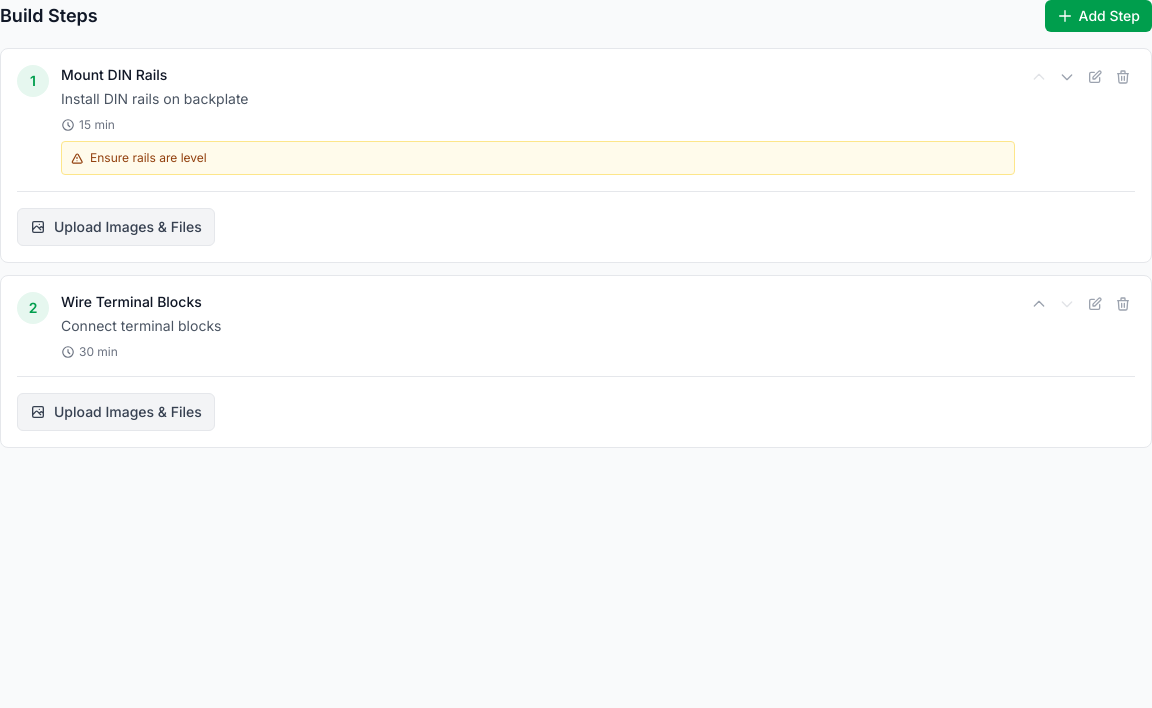
Test case: StepEditor › shows edit form when edit button is clicked
Click the button named "Edit step 1" at [1095, 77], box [1083,65,1107,89]
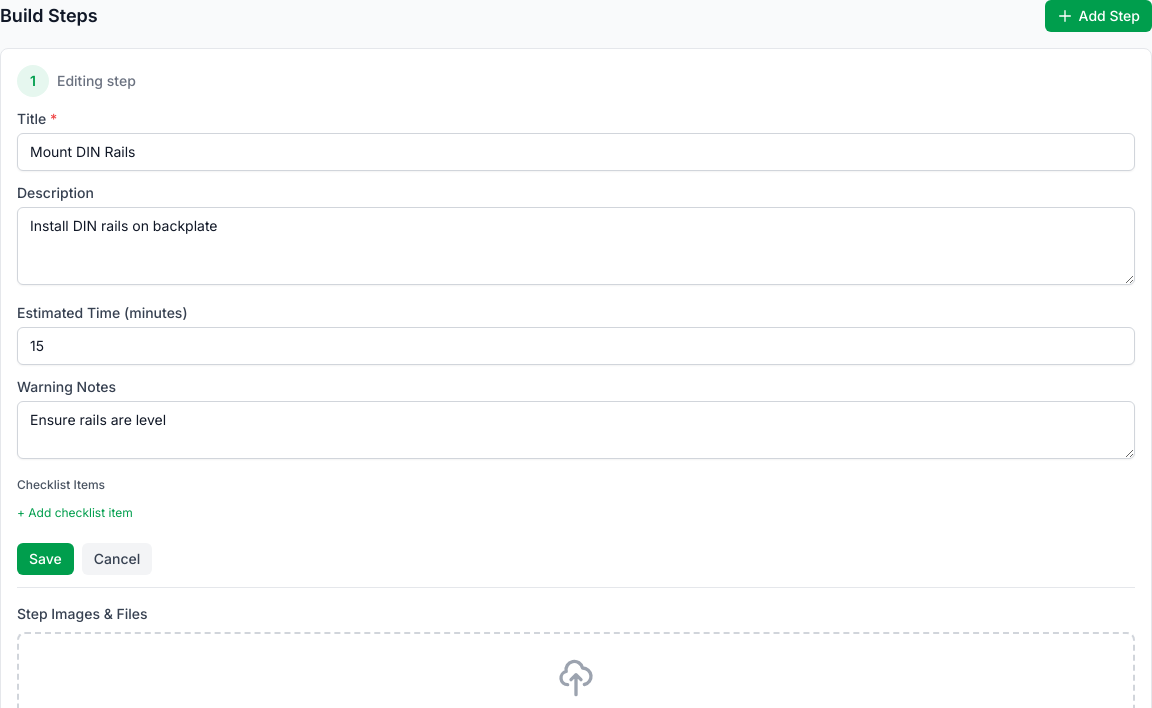
Check: the field with id "edit-title-step-1" holds "Mount DIN Rails", box [17,133,1135,171]
